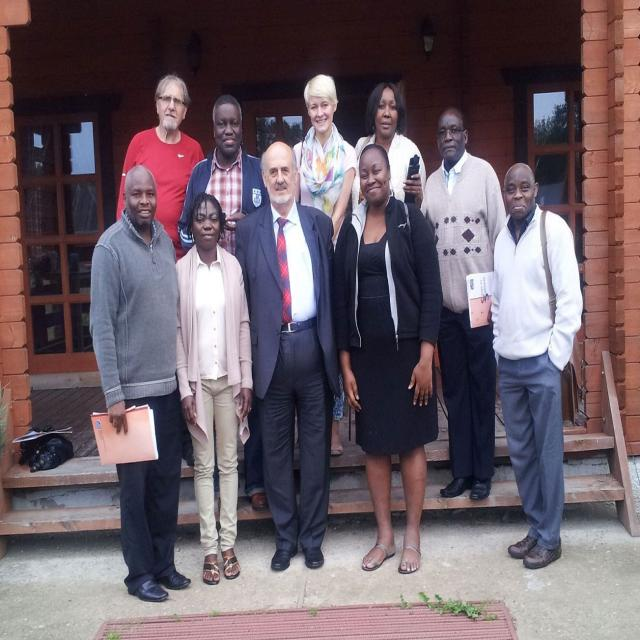body: (328, 139, 445, 578), (230, 137, 342, 579), (85, 161, 193, 605), (175, 90, 271, 514), (488, 161, 586, 572), (113, 72, 206, 469), (419, 107, 507, 502), (173, 190, 253, 588), (286, 73, 357, 458), (350, 79, 426, 216)
